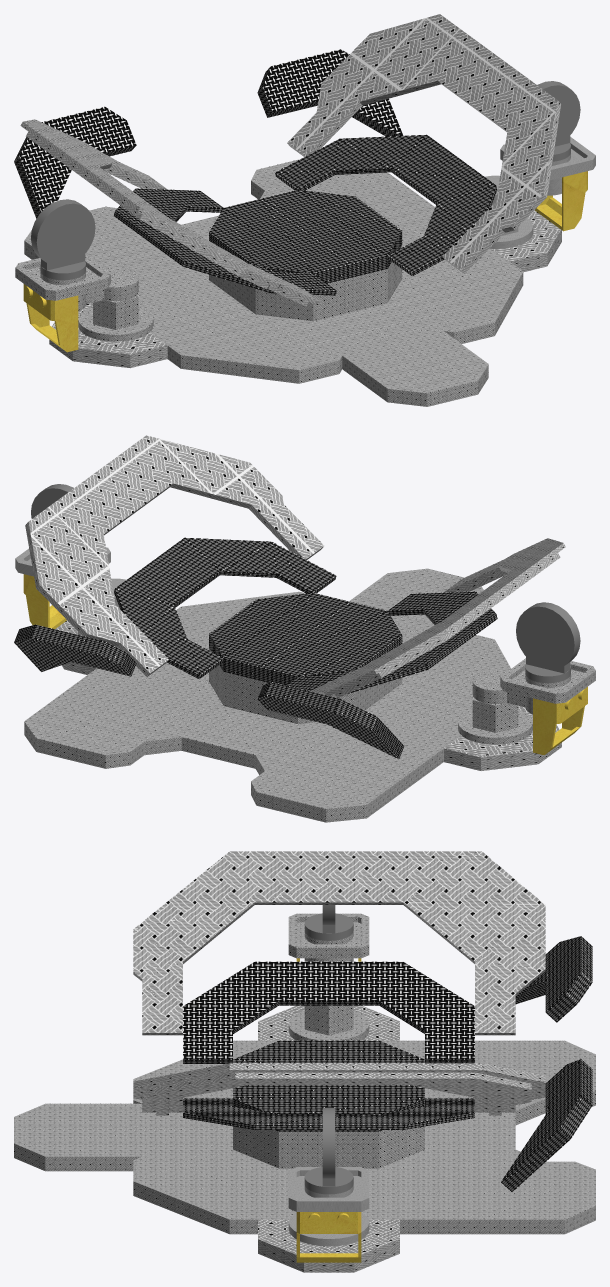
Rendered from man1.glb.
3 renders of one model, top to bottom at view 1: azimuth 30°, elevation 25°; view 2: azimuth 150°, elevation 25°; view 3: azimuth 270°, elevation 25°, orthographic. The views are drawn at different scales.
Visible parts, largest first — view 1: man1.001; view 2: man1.001; view 3: man1.001.
Boxes of the visible parts, box(x1,y1,x2,y2) form: man1.001: box(14, 14, 595, 406); man1.001: box(14, 435, 595, 822); man1.001: box(14, 851, 595, 1272).
Size of the model in its own units: 3.94 by 1.21 by 3.37.
6 materials, 3 textured.
